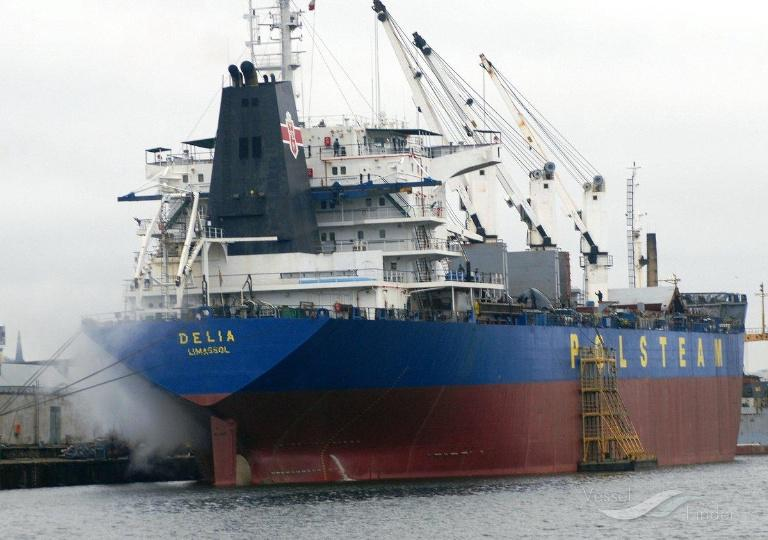OCR: (170, 316, 239, 368)
